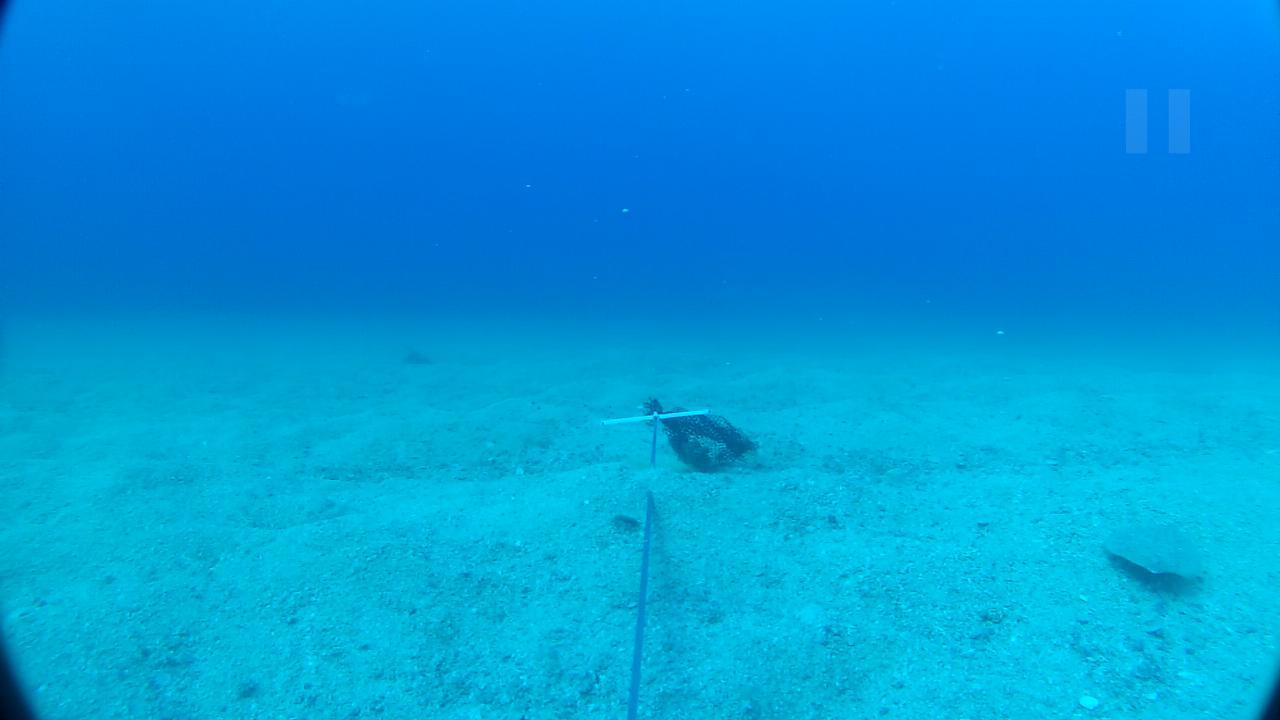bothus: (1094, 520, 1210, 593)
